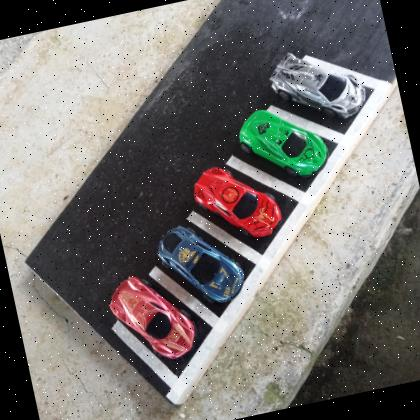Car: (104, 266, 201, 372), (264, 38, 372, 132), (151, 214, 248, 315), (189, 154, 286, 250), (234, 98, 333, 188)
